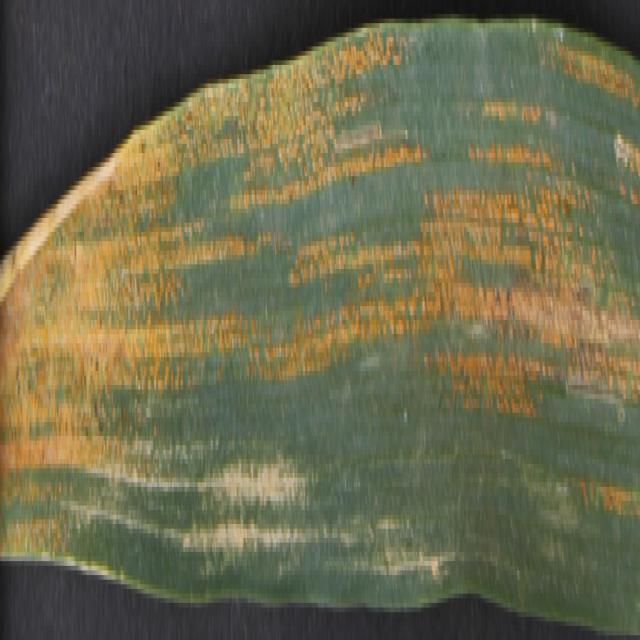leaf rust: (0, 4, 640, 547)
